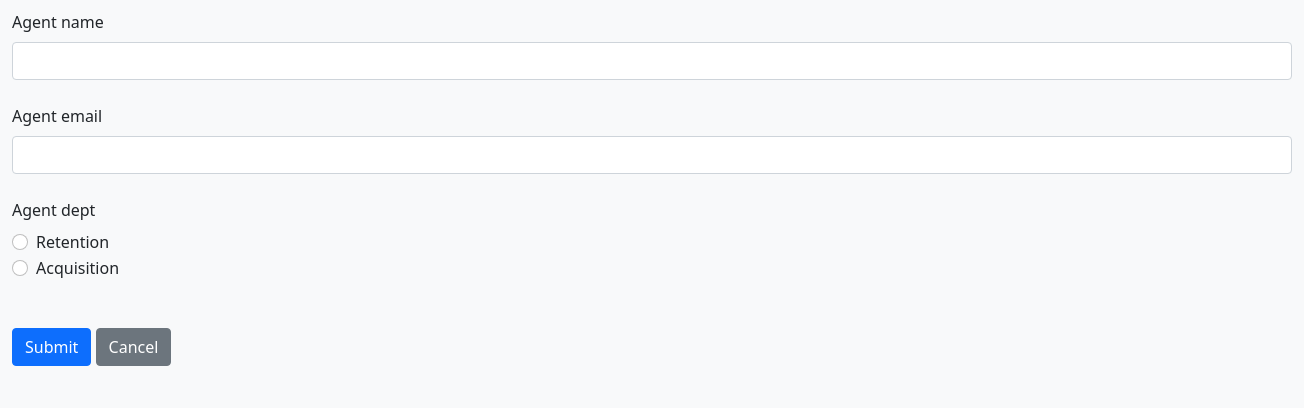
shows errors if entering invalid email address
Note: type an invalid email address
In the field labelled "Agent email": (652, 155) [12, 136, 1292, 174], type "invalid@EmailAddress"
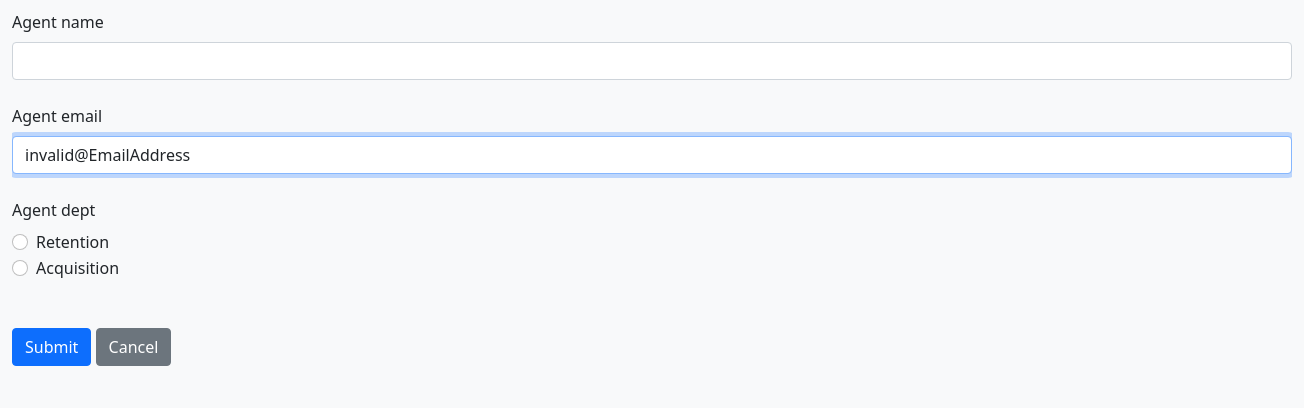
Press Tab
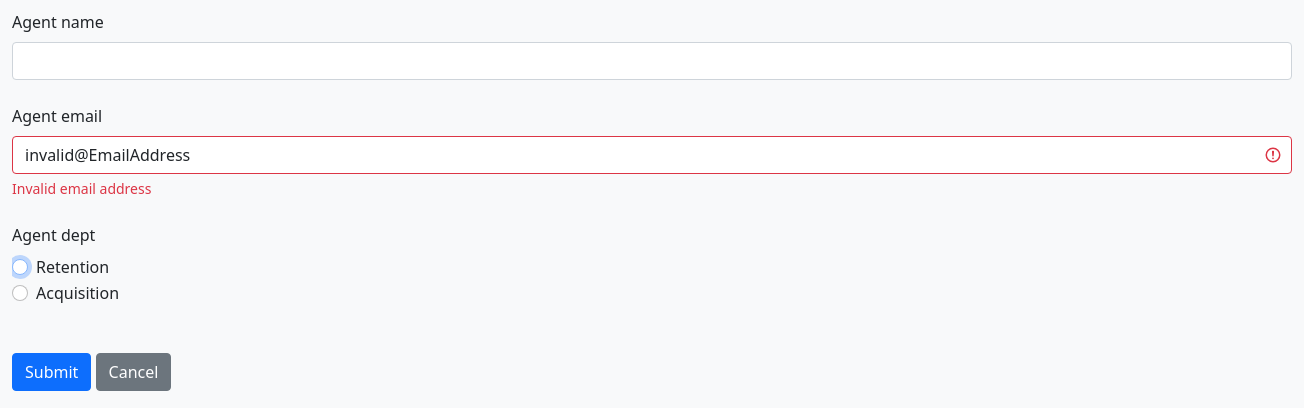
Result: the text "Invalid email address" is shown at [12, 179, 151, 198]
